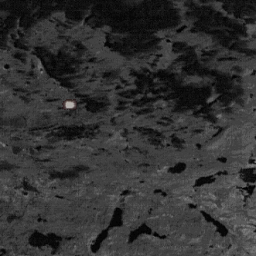Target: (62, 98, 75, 109)
